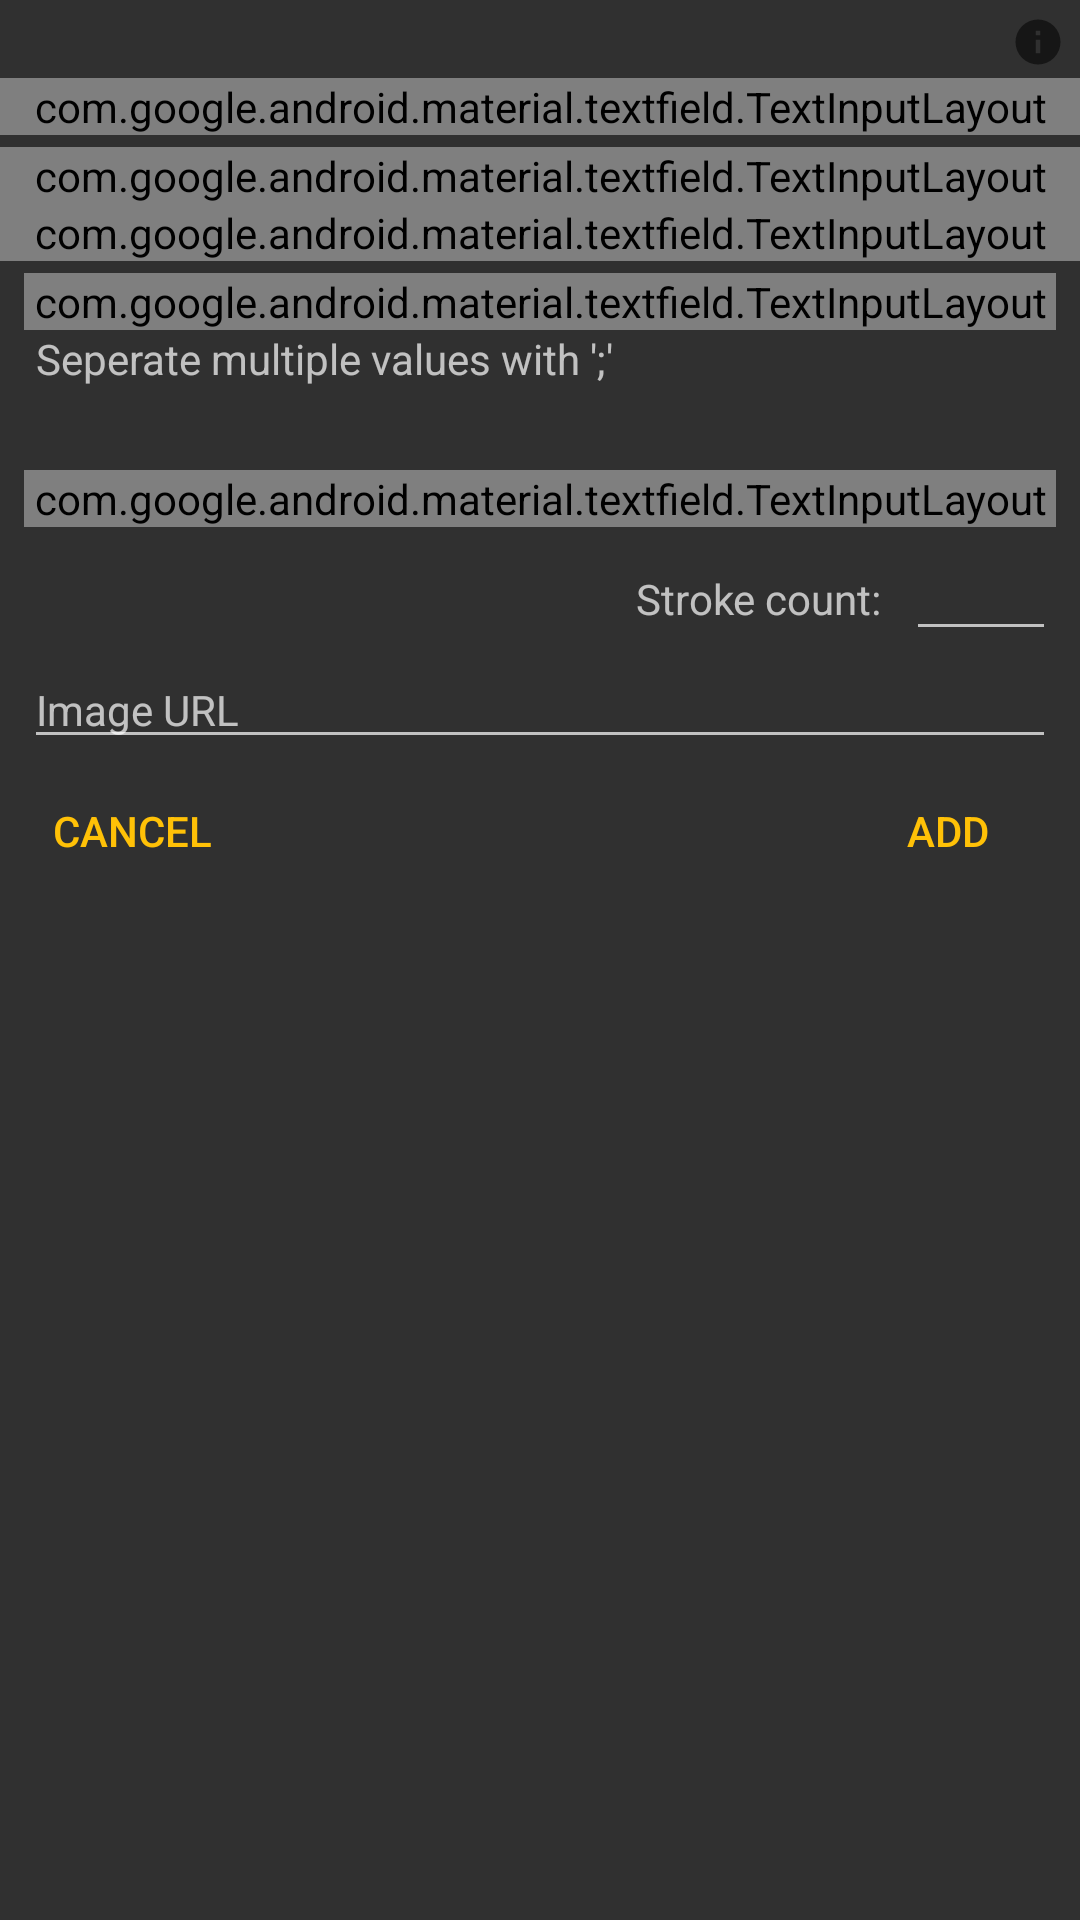

Named icons in this screenshot (1080px x 1920px) and their centers, [x,y]:
info: [1038,42]
